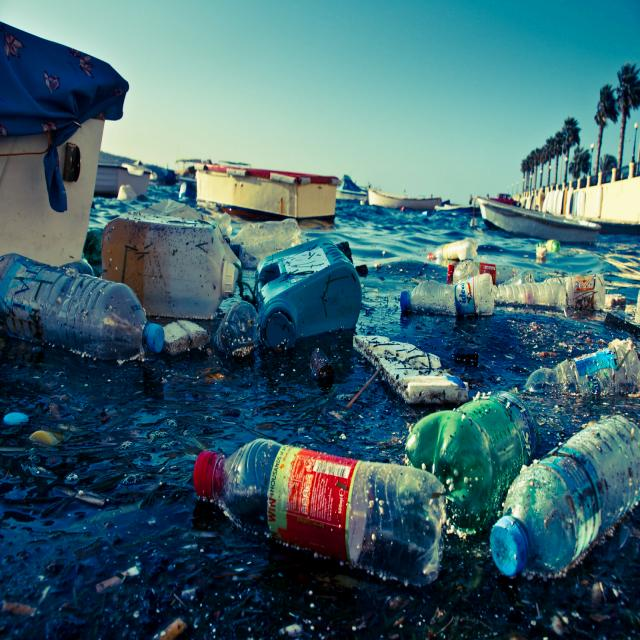plastic watse: (194, 439, 445, 584), (490, 417, 639, 576), (406, 392, 537, 529), (0, 254, 163, 359), (102, 200, 241, 319), (256, 241, 361, 347), (524, 339, 640, 395), (401, 274, 493, 315), (494, 279, 565, 307), (428, 238, 477, 260)
